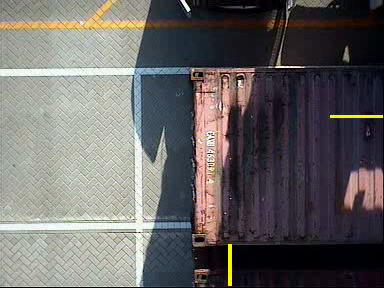groundmarker_2: (196, 35, 231, 88), (196, 209, 231, 262)
